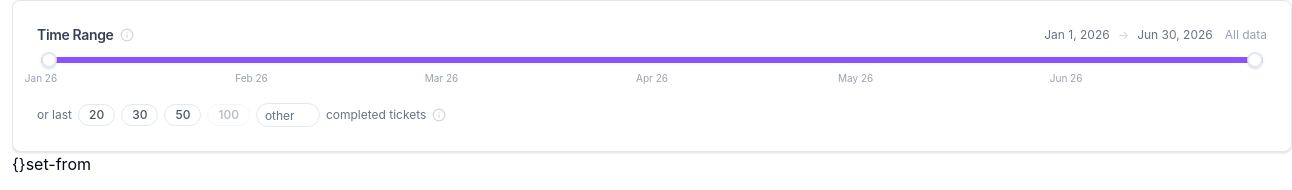
Scenario: DateRangeSlider — last N tickets › a chip sets last N and shows it in the header
This screenshot has width=1292, height=190.
Click the button named "Last 30 tickets": click(140, 115) x1=121 y1=104 x2=158 y2=126
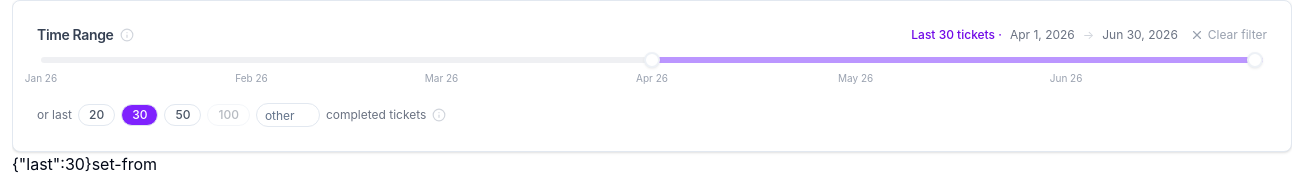
Expected: the text "Last 30 tickets ·" is shown, x1=911 y1=27 x2=1002 y2=43
